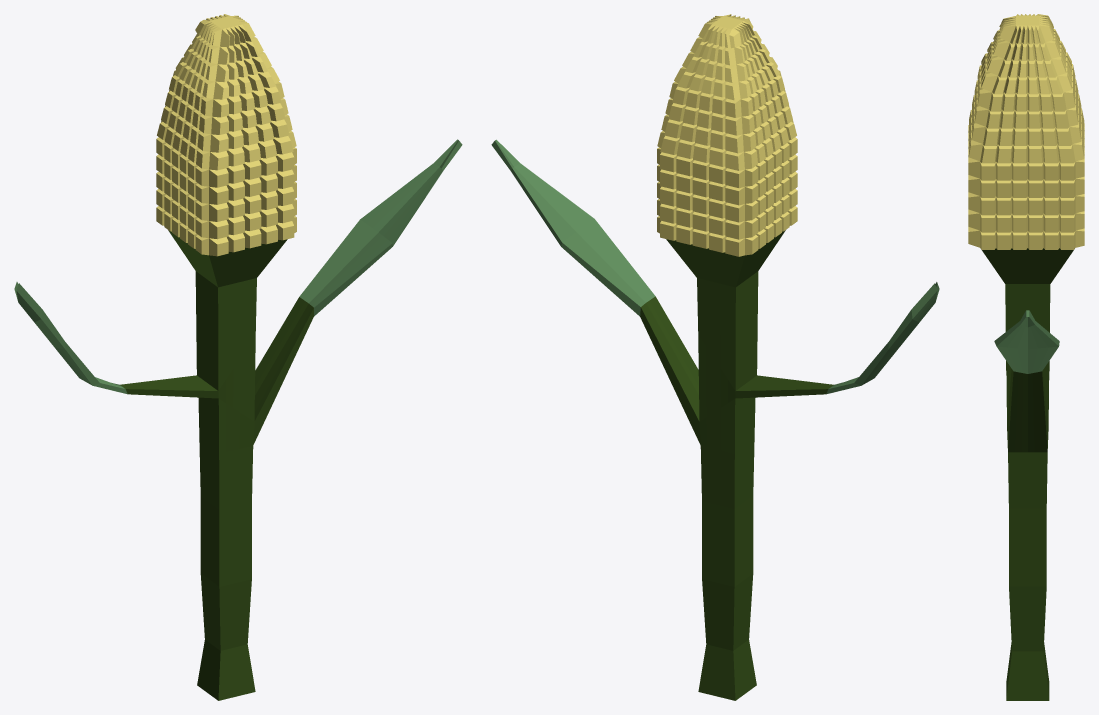
The model's file is corn.fbx.
The picture shows the model from 3 angles, left to right: view 1: azimuth 30°, elevation 25°; view 2: azimuth 150°, elevation 25°; view 3: azimuth 270°, elevation 25°; orthographic projection.
Parts seen in each view (by area): view 1: Cube; view 2: Cube; view 3: Cube.
Boxes of the visible parts, <box> form: Cube: <box>14,14,462,700</box>; Cube: <box>491,14,939,700</box>; Cube: <box>968,14,1084,700</box>.
Size of the model in its own units: 676 by 964 by 151.
